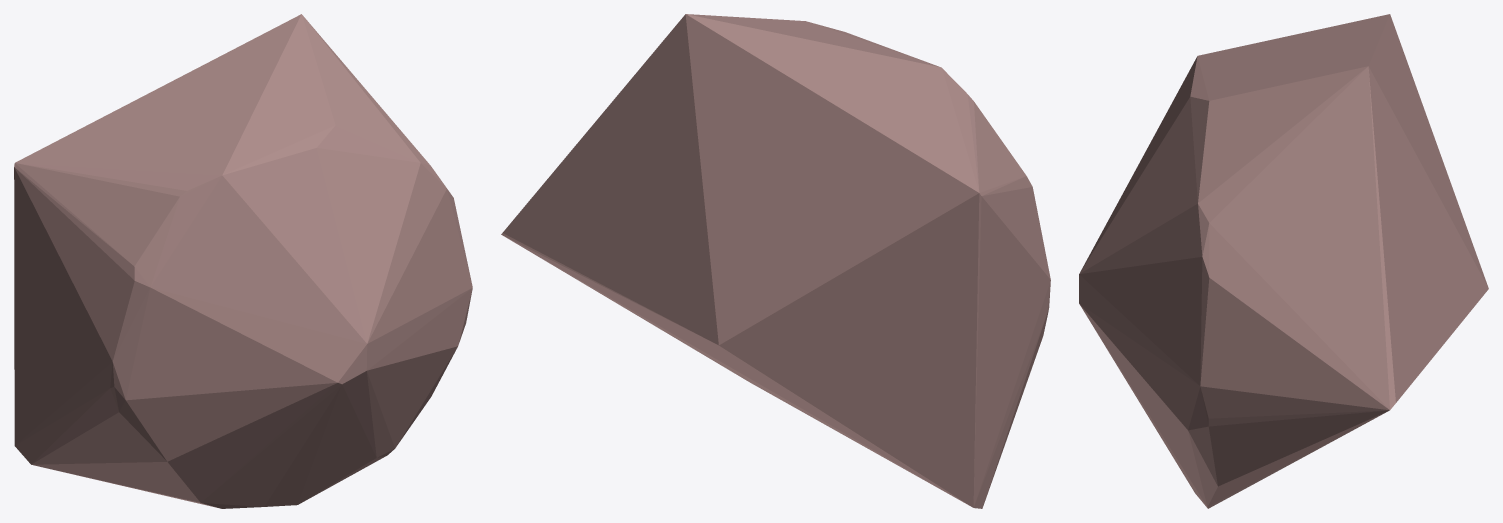
Rendered from stool_mobile_padded_vinyl_a01.glb.
The picture shows the model from 3 angles, left to right: view 1: azimuth 30°, elevation 25°; view 2: azimuth 150°, elevation 25°; view 3: azimuth 270°, elevation 25°; orthographic projection. The views are drawn at different scales.
Parts seen in each view (by area): view 1: geometry_0; view 2: geometry_0; view 3: geometry_0.
Boxes of the visible parts, x1,y1,x2,y2 form: geometry_0: [14, 14, 472, 508]; geometry_0: [501, 14, 1050, 508]; geometry_0: [1079, 14, 1488, 508].
Size of the model in its own units: 0.4571 by 0.4197 by 0.3342.
